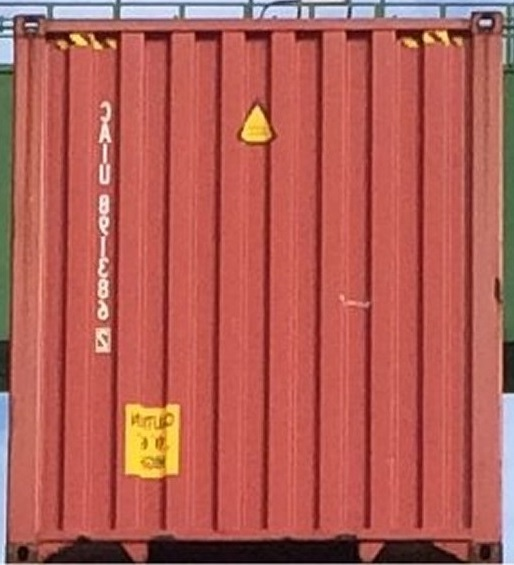container_no_door: (9, 13, 503, 564)
